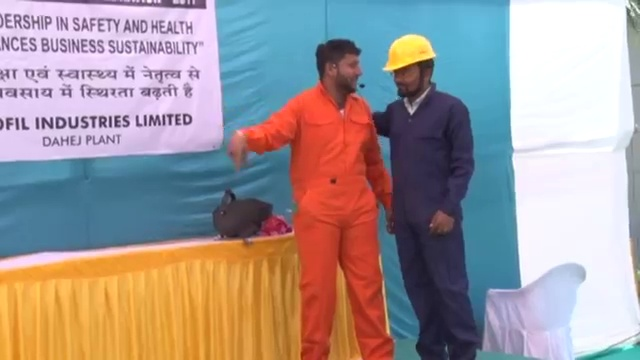helmet: (380, 33, 441, 73)
helmet_off: (318, 36, 368, 95)
helmet_on: (378, 32, 441, 106)
person: (234, 38, 395, 360), (372, 31, 481, 360)
